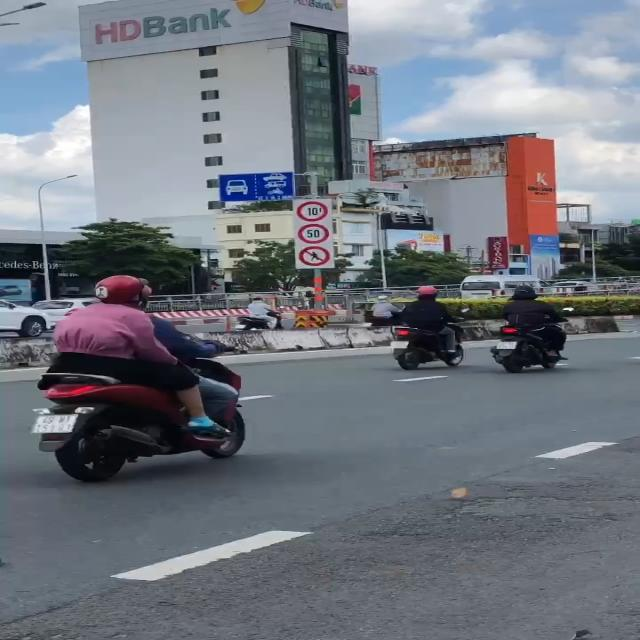Bien bao cam nguoi di bo: (297, 245, 334, 268)
Bien bao toc do toi da cho phep: (295, 222, 331, 245)
